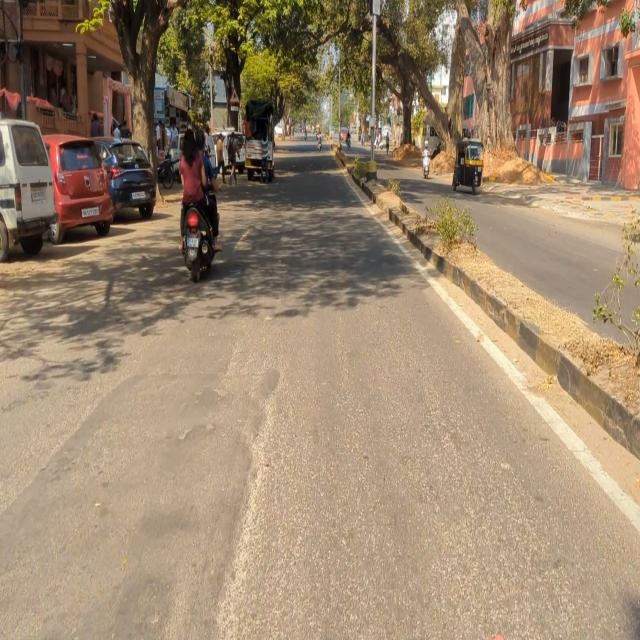bien_cam: (229, 86, 240, 105)
